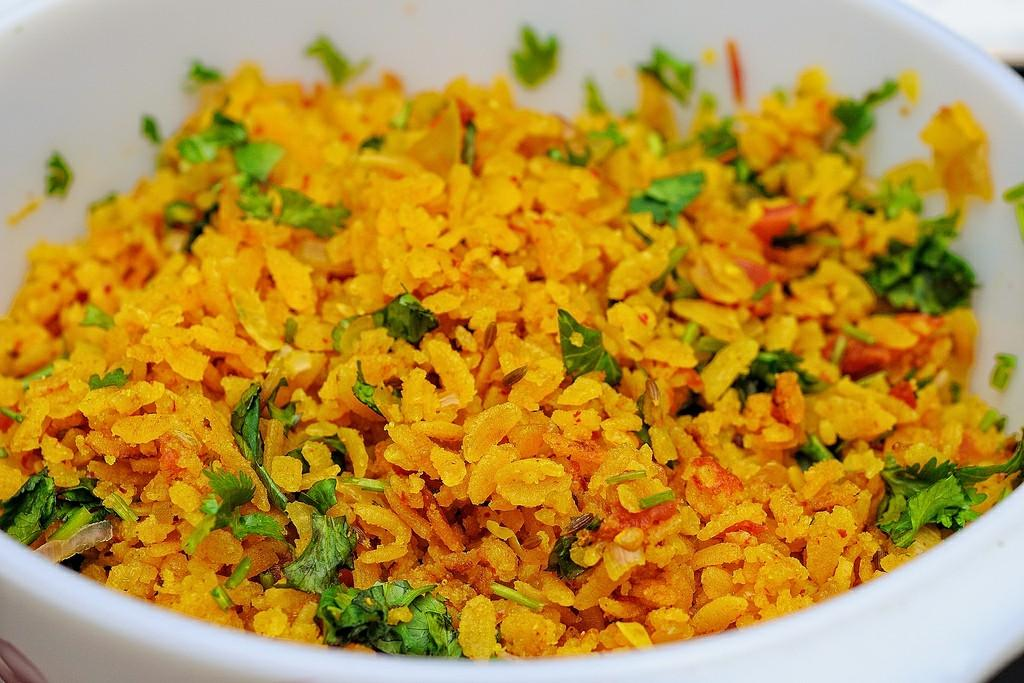Poha: (0, 22, 1024, 664)
